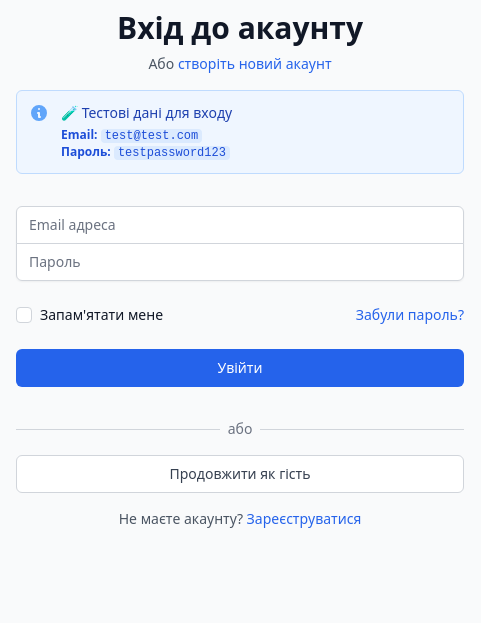
LoginPage Component › Form State Management › clears error message when form is resubmitted
# First submission - error
Type "test@test.com" into the field labelled "Email адреса". click: (240, 225)
box: [16,206,464,244]
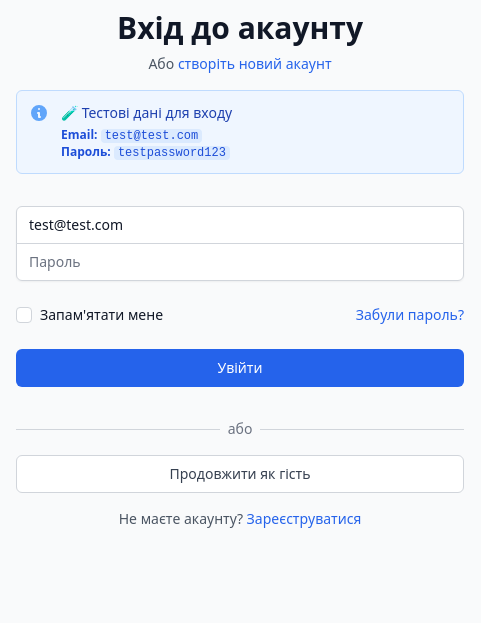
Type "password123" into the password field labelled "Пароль". click: (240, 262)
box: [16,243,464,281]
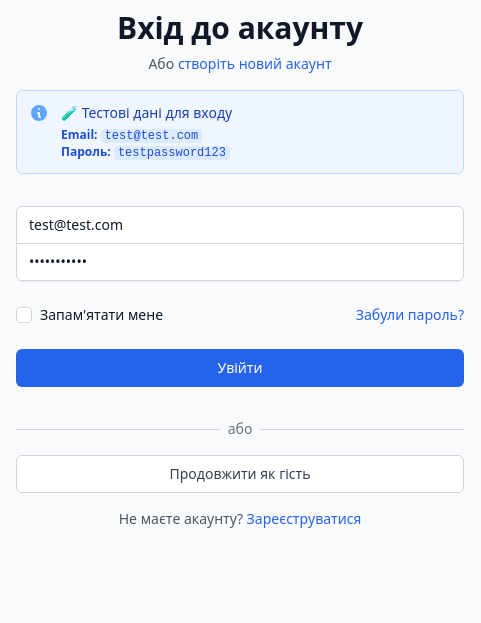
Click the button "Увійти". click: (240, 368)
box: [16,349,464,387]
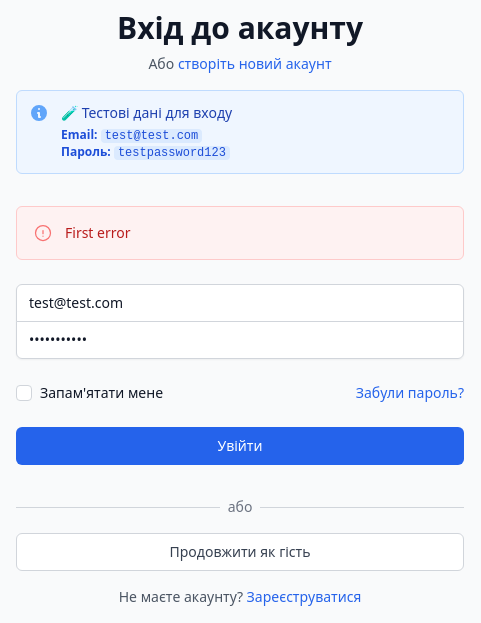
Now the text "First error" is shown, box [65,223,130,243]
# Second submission - success
Click the button "Увійти". click: (240, 446)
box: [16,427,464,465]
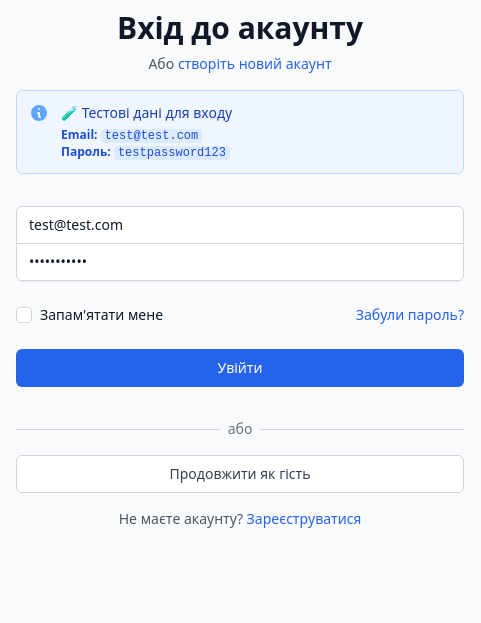
Now the text "First error" is gone
